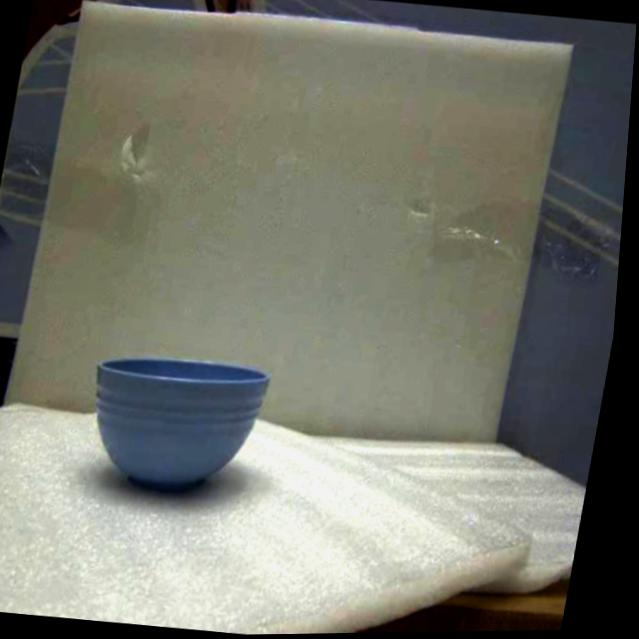Bowl: (96, 358, 269, 492)
